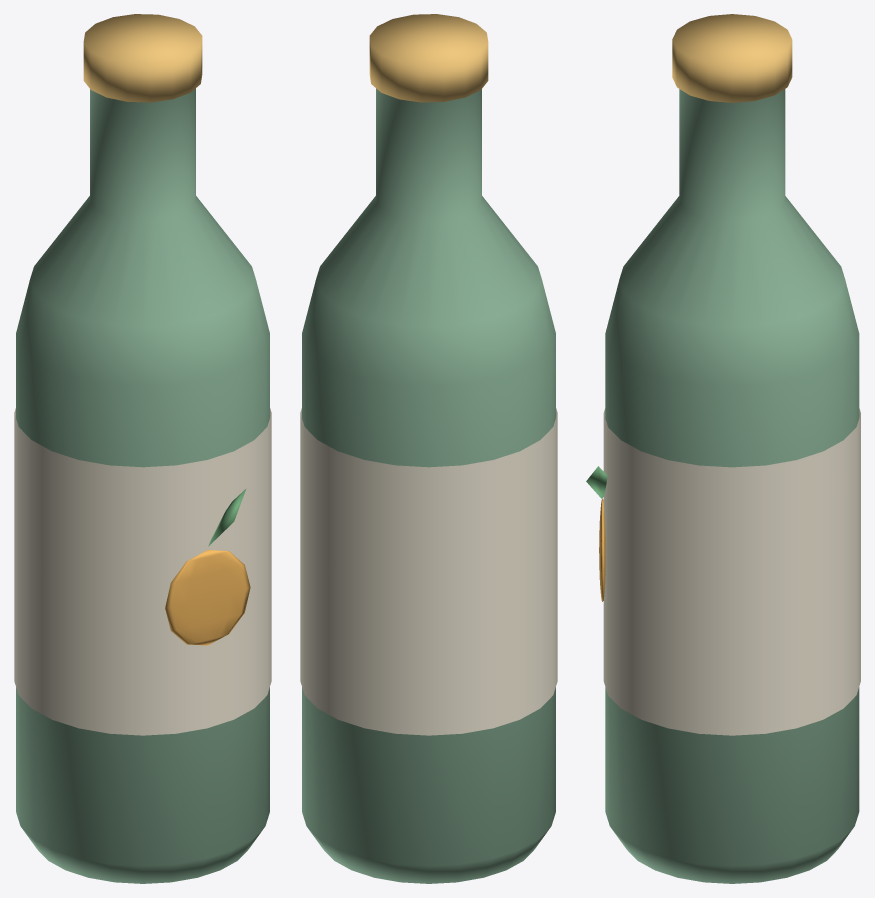
The model's file is bouteille.glb.
3 views of the same model, side by side, from view 1: azimuth 30°, elevation 25°; view 2: azimuth 150°, elevation 25°; view 3: azimuth 270°, elevation 25° (orthographic).
Visible parts, largest first — view 1: bouteille; view 2: bouteille; view 3: bouteille.
Boxes of the visible parts, bbox=[...] form: bouteille: bbox=[14, 14, 271, 883]; bouteille: bbox=[300, 14, 557, 883]; bouteille: bbox=[586, 14, 860, 883].
Bounding box in the file's own units: 0.073 × 0.25 × 0.078.
